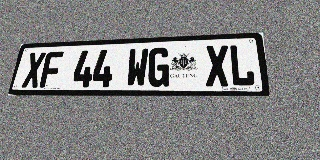4: (91, 49, 115, 87), (72, 50, 96, 87)
F: (39, 51, 64, 88)
G: (147, 47, 170, 87)
L: (229, 44, 256, 86)
W: (125, 48, 149, 87)
X: (205, 45, 230, 87), (21, 52, 46, 88)
